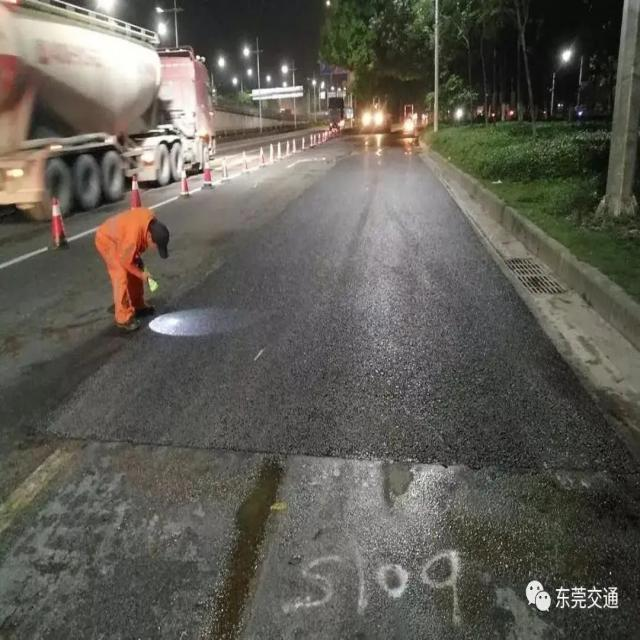pothole: (212, 454, 290, 640), (382, 468, 415, 495)
